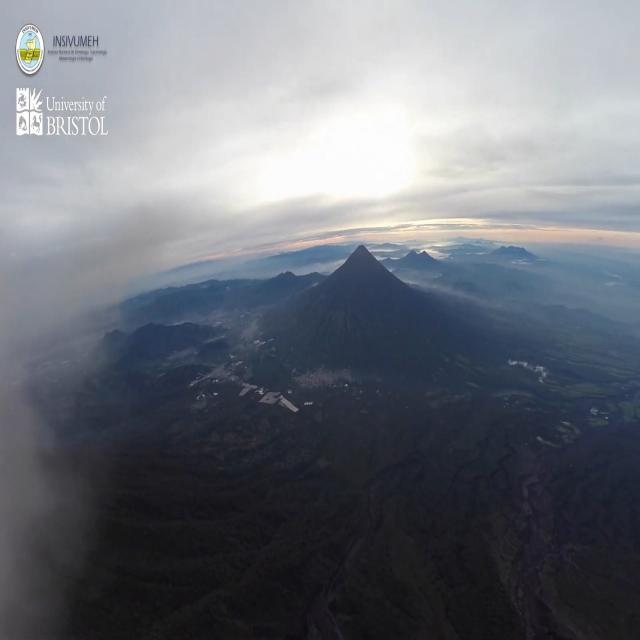Plume: (0, 387, 107, 640)
